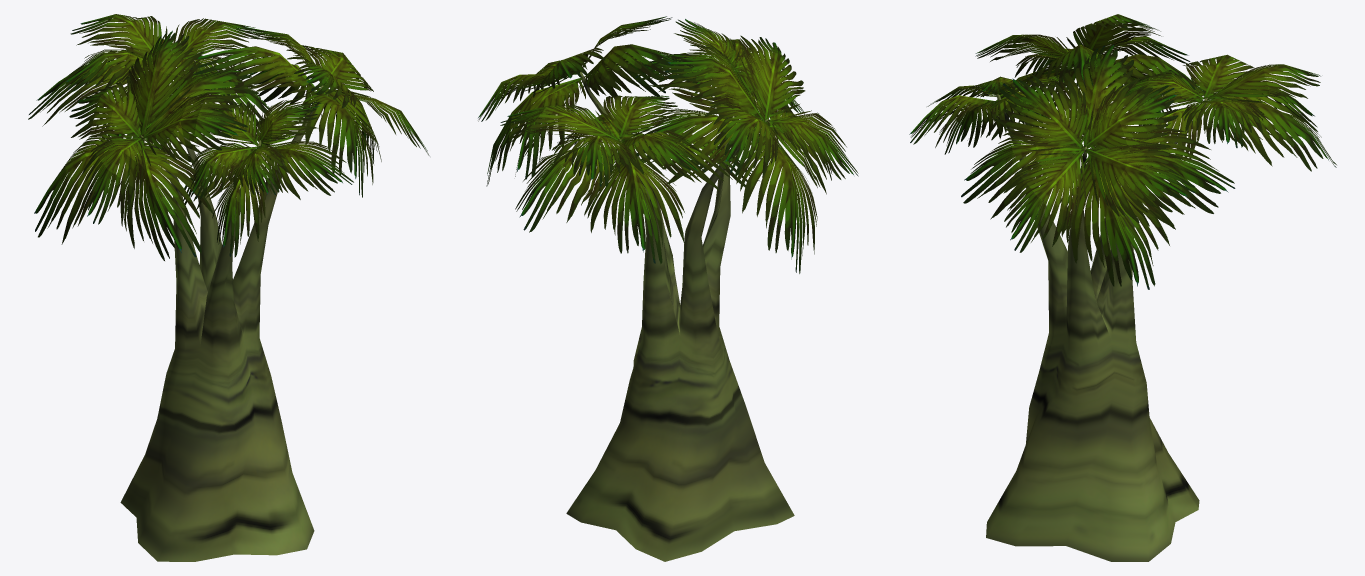
The model's file is StrangeTree(SimpleMesh).fbx.
The picture shows the model from 3 angles, left to right: view 1: azimuth 30°, elevation 25°; view 2: azimuth 150°, elevation 25°; view 3: azimuth 270°, elevation 25°; orthographic projection. The views are drawn at different scales.
Visible parts, largest first — view 1: ExoticTree01; view 2: ExoticTree01; view 3: ExoticTree01.
Boxes of the visible parts, x1,y1,x2,y2 form: ExoticTree01: (28,14,429,561); ExoticTree01: (478,16,858,561); ExoticTree01: (909,14,1336,561).
Bounding box in the file's own units: 178 × 234 × 198.
